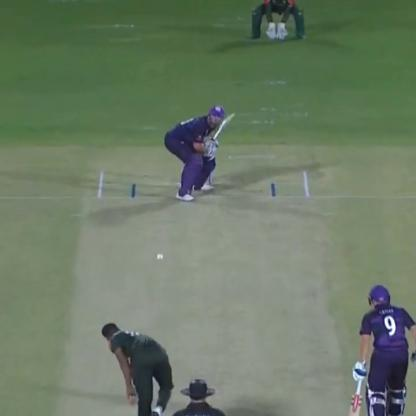ball: (148, 249, 166, 262)
bat: (213, 108, 238, 138)
pitch: (52, 163, 365, 415)
